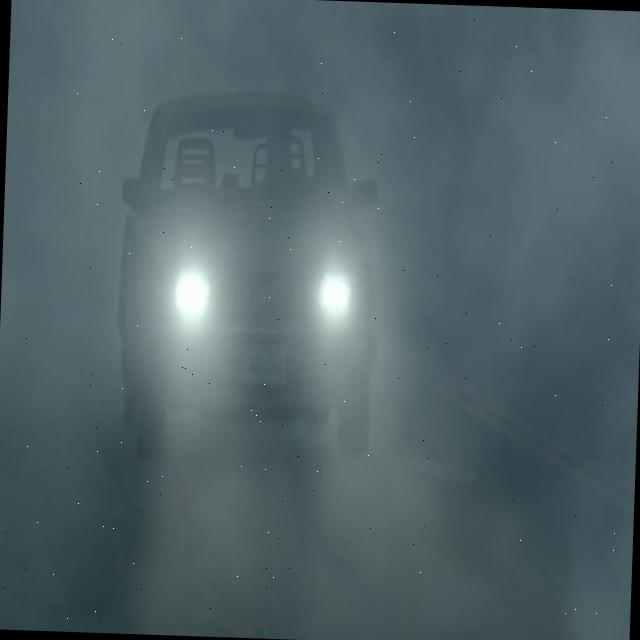car: (110, 91, 385, 468)
